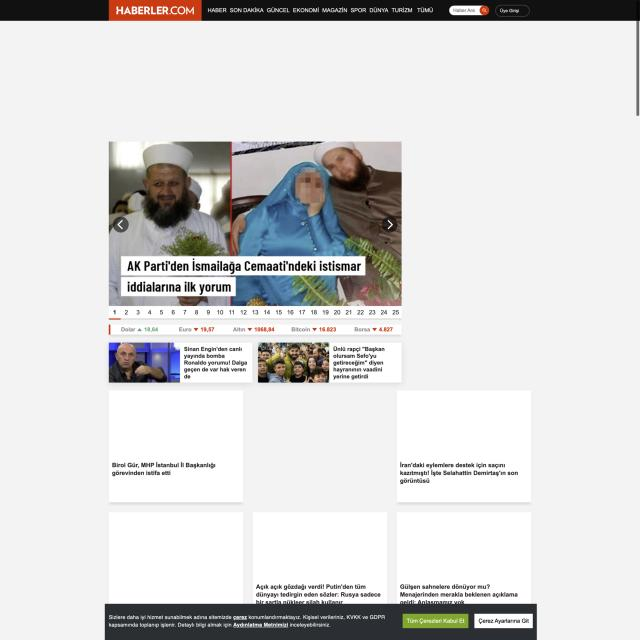input: (449, 5, 490, 16)
logo: (110, 1, 202, 20)
navigation: (207, 3, 436, 17)
